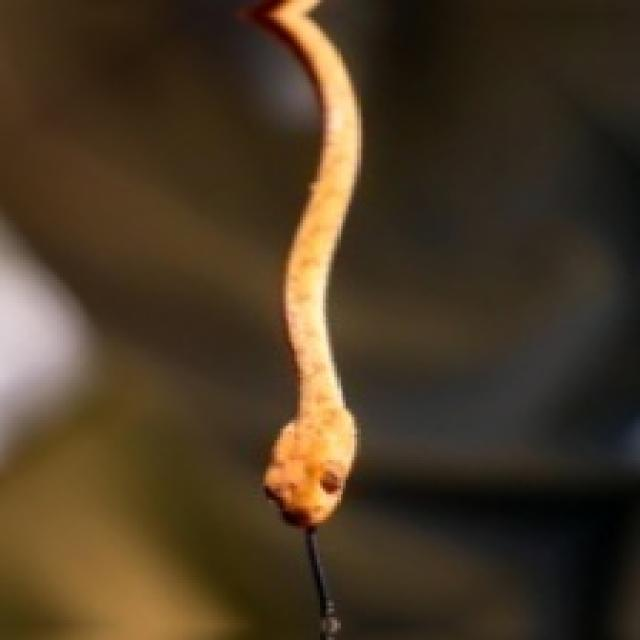philippine cat snake: (257, 0, 357, 637), (263, 0, 357, 526)
